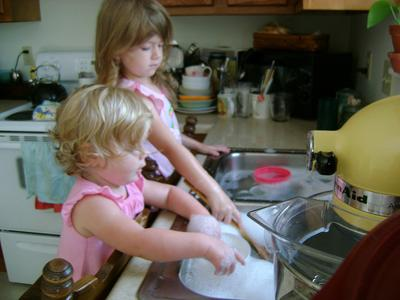person: (54, 84, 247, 282)
